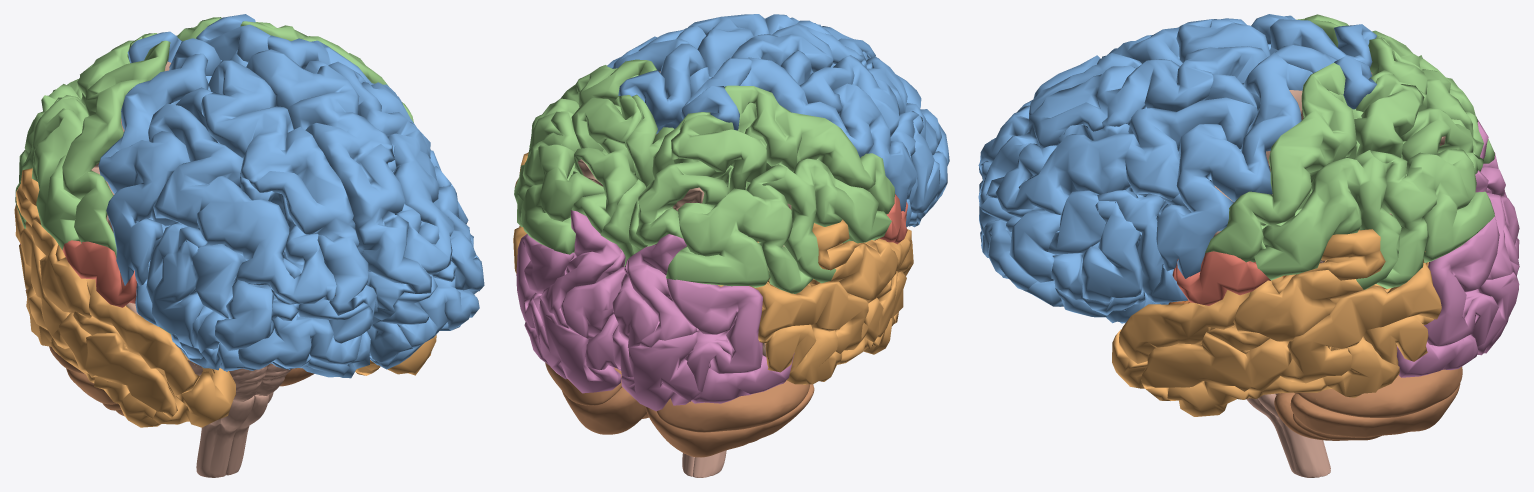
Rendered from brain.glb.
The picture shows the model from 3 angles, left to right: view 1: azimuth 30°, elevation 25°; view 2: azimuth 150°, elevation 25°; view 3: azimuth 270°, elevation 25°; orthographic projection. The views are drawn at different scales.
Parts seen in each view (by area): view 1: middle-frontal-gyrus-right, superior-frontal-gyrus-right, superior-frontal-gyrus-left, precentral-gyrus-right, middle-frontal-gyrus-left, postcentral-gyrus-right, middle-temporal-gyrus-right, superior-temporal-gyrus-lateral-part-right, supramarginal-gyrus-right, orbital-gyri-frontomarginal-gyrus-and-sulcus-right, triangular-part-of-inferior-frontal-gyrus-right, inferior-frontal-sulcus-right (+26 smaller); view 2: angular-gyrus-right, superior-parietal-lobule-right, postcentral-gyrus-right, supramarginal-gyrus-right, angular-gyrus-left, lateral-occipital-gyrus-middle-occipital-gyrus-right, precentral-gyrus-right, middle-temporal-gyrus-right, superior-parietal-lobule-left, middle-frontal-gyrus-right, inferior-temporal-gyrus-right, superior-semilunar-lobule-right (+32 smaller); view 3: middle-frontal-gyrus-left, precentral-gyrus-left, middle-temporal-gyrus-left, superior-frontal-gyrus-left, postcentral-gyrus-left, superior-temporal-gyrus-lateral-part-left, supramarginal-gyrus-left, angular-gyrus-left, inferior-temporal-gyrus-left, superior-frontal-gyrus-right, superior-parietal-lobule-left, lateral-occipital-gyrus-middle-occipital-gyrus-left (+26 smaller).
Boxes of the visible parts, x1=… form: middle-frontal-gyrus-right: x1=148, y1=103, x2=336, y2=350; superior-frontal-gyrus-right: x1=201, y1=60, x2=376, y2=319; superior-frontal-gyrus-left: x1=230, y1=49, x2=431, y2=327; precentral-gyrus-right: x1=98, y1=53, x2=208, y2=285; middle-frontal-gyrus-left: x1=328, y1=61, x2=484, y2=291; postcentral-gyrus-right: x1=62, y1=40, x2=170, y2=257; middle-temporal-gyrus-right: x1=14, y1=204, x2=177, y2=418; superior-temporal-gyrus-lateral-part-right: x1=25, y1=219, x2=199, y2=395; supramarginal-gyrus-right: x1=15, y1=97, x2=88, y2=249; orbital-gyri-frontomarginal-gyrus-and-sulcus-right: x1=238, y1=313, x2=362, y2=369; triangular-part-of-inferior-frontal-gyrus-right: x1=152, y1=239, x2=203, y2=347; inferior-frontal-sulcus-right: x1=151, y1=207, x2=246, y2=318; angular-gyrus-right: x1=666, y1=164, x2=812, y2=293; superior-parietal-lobule-right: x1=636, y1=114, x2=766, y2=246; postcentral-gyrus-right: x1=724, y1=85, x2=894, y2=214; supramarginal-gyrus-right: x1=762, y1=158, x2=891, y2=283; angular-gyrus-left: x1=517, y1=111, x2=604, y2=254; lateral-occipital-gyrus-middle-occipital-gyrus-right: x1=666, y1=278, x2=762, y2=391; precentral-gyrus-right: x1=740, y1=57, x2=916, y2=211; middle-temporal-gyrus-right: x1=752, y1=271, x2=906, y2=353; superior-parietal-lobule-left: x1=571, y1=95, x2=644, y2=233; middle-frontal-gyrus-right: x1=799, y1=55, x2=949, y2=165; inferior-temporal-gyrus-right: x1=759, y1=317, x2=895, y2=384; superior-semilunar-lobule-right: x1=656, y1=380, x2=809, y2=432; middle-frontal-gyrus-left: x1=986, y1=97, x2=1257, y2=282; precentral-gyrus-left: x1=1156, y1=52, x2=1312, y2=278; middle-temporal-gyrus-left: x1=1141, y1=263, x2=1441, y2=391; superior-frontal-gyrus-left: x1=978, y1=46, x2=1266, y2=206; postcentral-gyrus-left: x1=1205, y1=63, x2=1356, y2=262; superior-temporal-gyrus-lateral-part-left: x1=1119, y1=270, x2=1364, y2=363; supramarginal-gyrus-left: x1=1254, y1=150, x2=1401, y2=289; angular-gyrus-left: x1=1370, y1=149, x2=1494, y2=288; inferior-temporal-gyrus-left: x1=1167, y1=315, x2=1434, y2=416; superior-frontal-gyrus-right: x1=978, y1=19, x2=1277, y2=182; superior-parietal-lobule-left: x1=1354, y1=74, x2=1483, y2=173; lateral-occipital-gyrus-middle-occipital-gyrus-left: x1=1424, y1=216, x2=1499, y2=346.
Bounding box in the file's own units: 0.1378 × 0.1609 × 0.1807.
